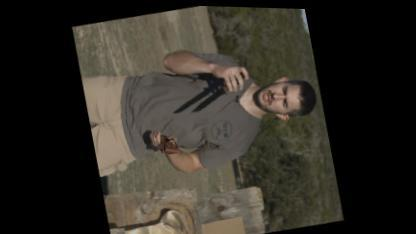knife: (181, 62, 256, 115)
